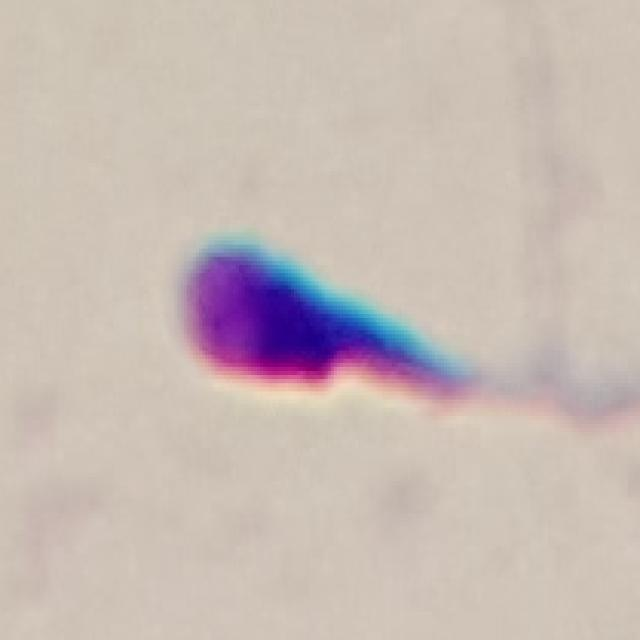abnormal sperm: (178, 239, 561, 423)
